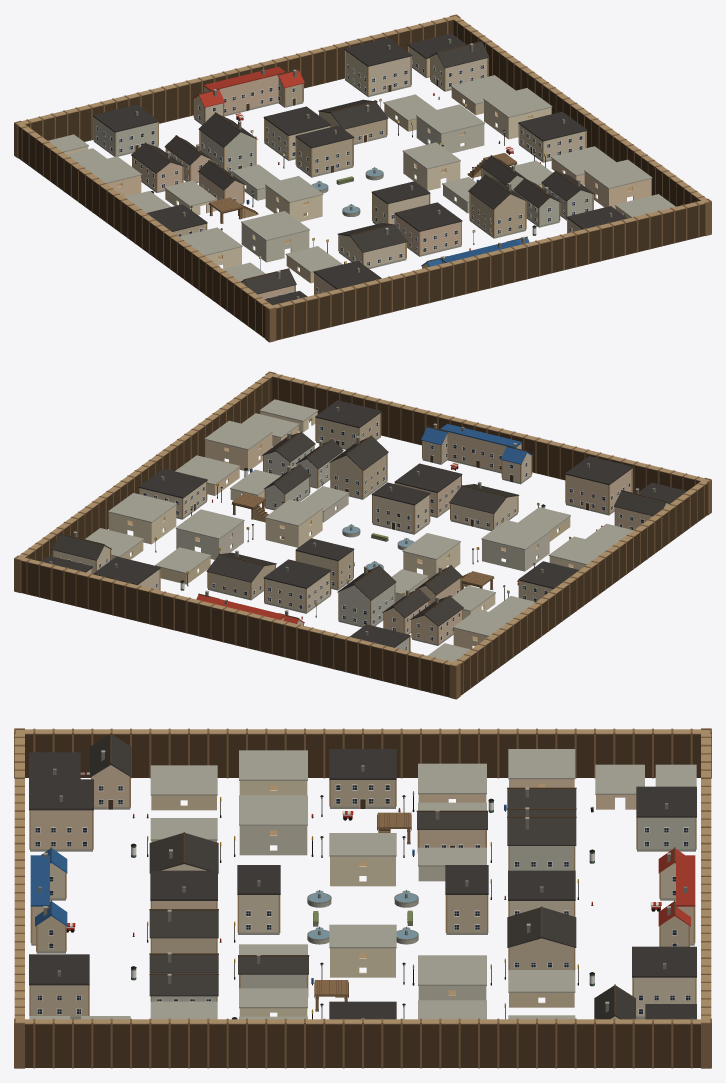
Rendered from becos.glb.
The picture shows the model from 3 angles, top to bottom: view 1: azimuth 30°, elevation 25°; view 2: azimuth 150°, elevation 25°; view 3: azimuth 270°, elevation 25°; orthographic projection. The views are drawn at different scales.
Visible parts, largest first — view 1: map_wood_dark.001, map_roof_slate.001, map_stone.001, map_wood_light.001, map_wood.001, map_wall_0.001, map_wall_3.001, map_wall_1.001, map_hw_e6d6b4.001, map_wall_2.001, map_hw_cfc8b4.001, map_trim.001 (+6 smaller); view 2: map_wood_dark.001, map_roof_slate.001, map_stone.001, map_wood.001, map_wood_light.001, map_wall_3.001, map_wall_0.001, map_wall_1.001, map_hw_e6d6b4.001, map_wall_2.001, map_hw_cfc8b4.001, map_trim.001 (+6 smaller); view 3: map_wood_dark.001, map_roof_slate.001, map_stone.001, map_wood_light.001, map_wood.001, map_wall_1.001, map_wall_3.001, map_hw_e6d6b4.001, map_wall_0.001, map_wall_2.001, map_hw_cfc8b4.001, map_trim.001 (+8 smaller).
Boxes of the visible parts, x1,y1,x2,y2 form: map_wood_dark.001: [18, 20, 704, 340]; map_roof_slate.001: [93, 33, 627, 305]; map_stone.001: [48, 43, 675, 281]; map_wood_light.001: [17, 15, 709, 308]; map_wood.001: [14, 14, 711, 342]; map_wall_0.001: [194, 46, 585, 268]; map_wall_3.001: [133, 75, 460, 299]; map_wall_1.001: [172, 77, 582, 236]; map_hw_e6d6b4.001: [64, 100, 551, 268]; map_wall_2.001: [94, 117, 592, 225]; map_hw_cfc8b4.001: [233, 117, 484, 262]; map_trim.001: [96, 60, 588, 298]; map_wood_dark.001: [21, 377, 707, 697]; map_roof_slate.001: [41, 400, 686, 647]; map_stone.001: [73, 399, 639, 662]; map_wood.001: [14, 371, 711, 699]; map_wood_light.001: [16, 372, 708, 665]; map_wall_3.001: [281, 432, 668, 643]; map_wall_0.001: [54, 453, 531, 625]; map_wall_1.001: [208, 413, 553, 601]; map_hw_e6d6b4.001: [108, 411, 585, 619]; map_wall_2.001: [264, 446, 409, 651]; map_hw_cfc8b4.001: [176, 494, 549, 602]; map_trim.001: [57, 421, 643, 650]; map_wood_dark.001: [25, 733, 700, 1067]; map_roof_slate.001: [29, 734, 696, 1019]; map_stone.001: [29, 749, 696, 1019]; map_wood_light.001: [14, 729, 711, 1024]; map_wood.001: [14, 728, 711, 1068]; map_wall_1.001: [30, 780, 688, 1016]; map_wall_3.001: [30, 765, 693, 942]; map_hw_e6d6b4.001: [239, 781, 395, 1016]; map_wall_0.001: [50, 863, 695, 1019]; map_wall_2.001: [152, 817, 695, 1001]; map_hw_cfc8b4.001: [239, 825, 486, 1000]; map_trim.001: [35, 784, 690, 1014].
Bounding box in the file's own units: 144 × 14.03 × 144.
